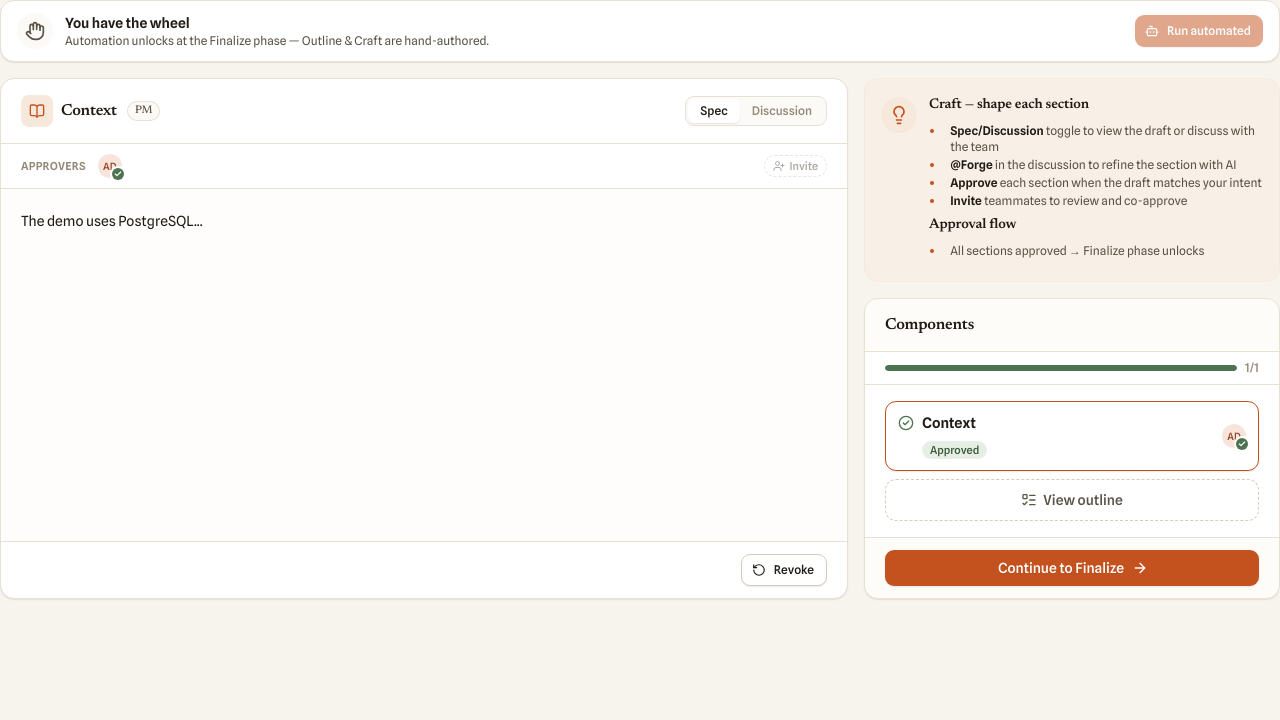
Spec · Craft — Revoke returns you to editing › shows the composer again after revoking
Click the button "Revoke" at (784,570), box [741,554,827,586]
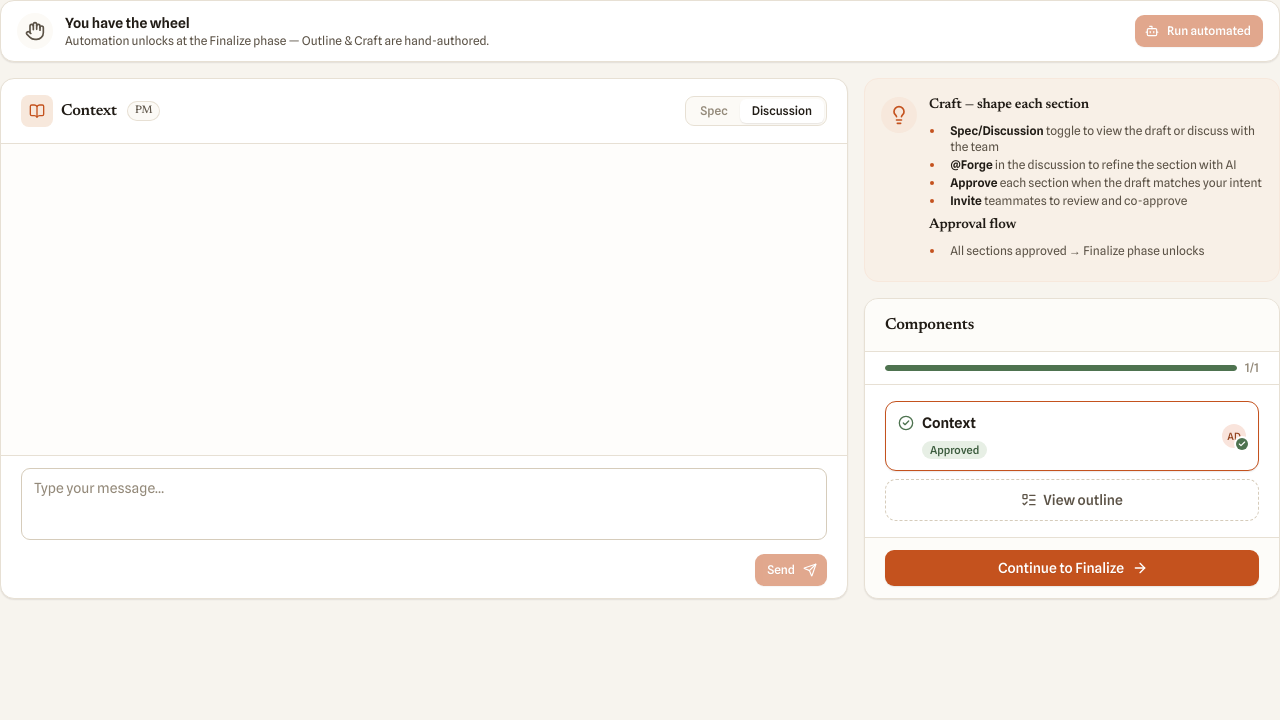
Result: the dropdown with placeholder "Type your message…" is shown at [21,468,827,540]
